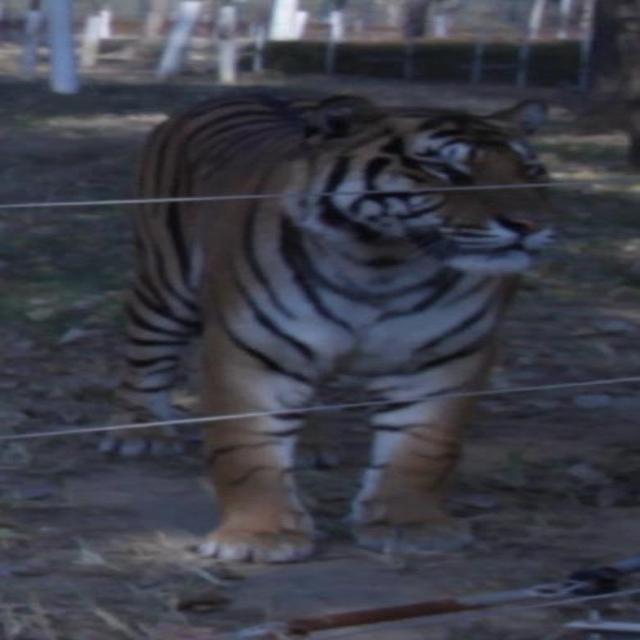tiger: (98, 80, 584, 584)
